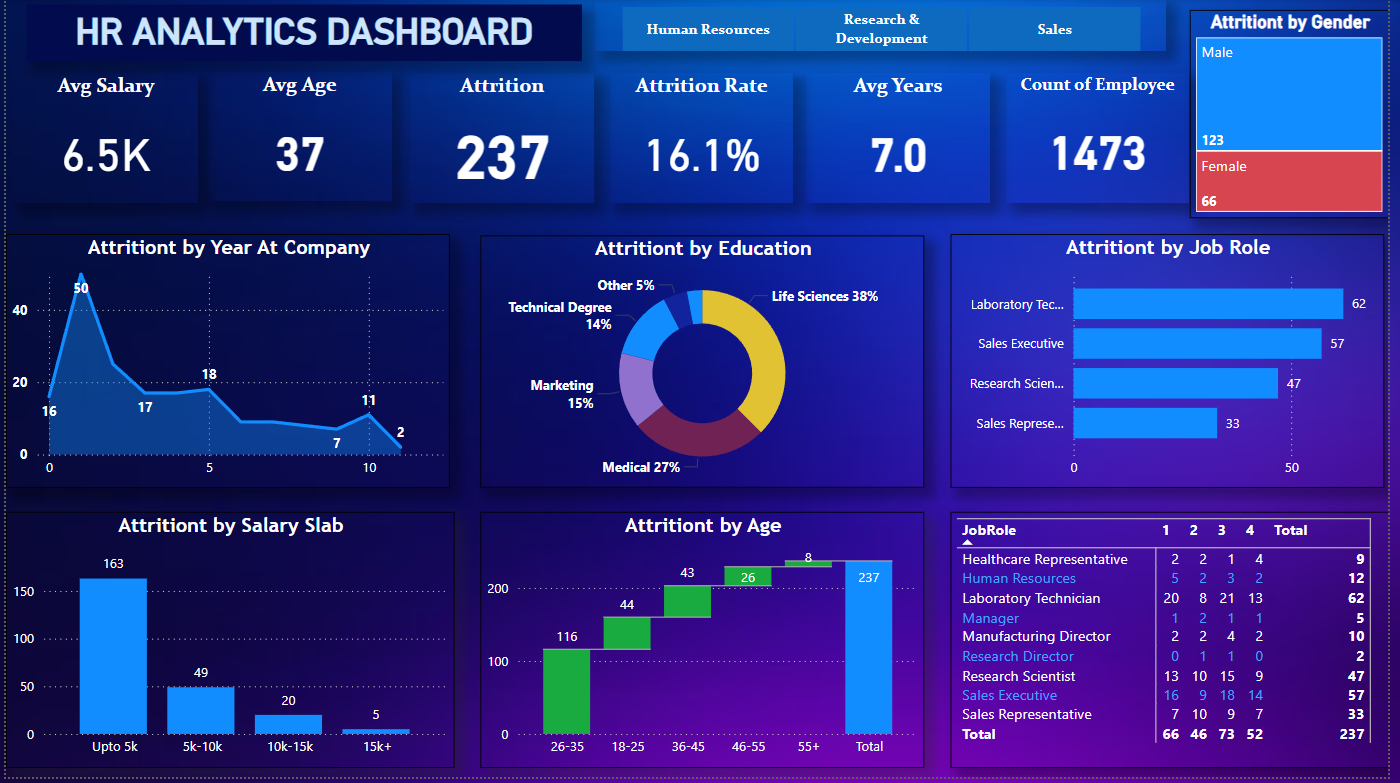

Layout of this report page (visuals, bound fields, positions):
{"tool":"powerbi","page":{"name":"Page 1","canvas":[1280,720],"ordinal":0},"visuals":[{"type":"card","title":"Count of Employee","fields":{"Values":["CountNonNull(HR_Analytics.EmpID)"]},"box":[925.4,69,170.4,119.7],"z":0},{"type":"card","title":"Attrition Rate","fields":{"Values":["HR_Analytics.AttritionRate"]},"box":[559.2,69,170.4,119.7],"z":1000},{"type":"card","title":"Attrition","fields":{"Values":["Sum(HR_Analytics.AttritionCount)"]},"box":[374.6,69,170.4,119.7],"z":2000},{"type":"card","title":"Avg Years","fields":{"Values":["Avg(HR_Analytics.YearsAtCompany)"]},"box":[740.8,69,170.4,119.7],"z":3000},{"type":"card","title":"Avg Age","fields":{"Values":["Avg(HR_Analytics.Age)"]},"box":[187.3,67.6,170,120],"z":4000},{"type":"card","title":"Avg Salary","fields":{"Values":["Avg(HR_Analytics.MonthlyIncome)"]},"box":[7,68.2,170,120],"z":5000},{"type":"donutChart","title":"Attritiont by Education","fields":{"Category":["HR_Analytics.EducationField"],"Y":["Sum(HR_Analytics.AttritionCount)"]},"box":[439.4,219,411.3,233.8],"z":6000},{"type":"waterfallChart","title":"Attritiont by Age","fields":{"Category":["HR_Analytics.AgeGroup"],"Y":["Sum(HR_Analytics.AttritionCount)"]},"box":[439.4,475.3,411.3,223.9],"z":7000},{"type":"pivotTable","title":"Attritiont by Education","fields":{"Rows":["HR_Analytics.JobRole"],"Columns":["HR_Analytics.JobSatisfaction"],"Values":["Sum(HR_Analytics.AttritionCount)"]},"box":[874.6,475.3,405.6,223.9],"z":8000},{"type":"clusteredColumnChart","title":"Attritiont by Salary Slab","fields":{"Category":["HR_Analytics.SalarySlab"],"Y":["Sum(HR_Analytics.AttritionCount)"]},"box":[0,475.3,415.5,223.9],"z":9000},{"type":"clusteredBarChart","title":"Attritiont by Job Role","fields":{"Category":["HR_Analytics.JobRole"],"Y":["Sum(HR_Analytics.AttritionCount)"]},"box":[874.6,217.5,401.4,235.2],"z":10000},{"type":"areaChart","title":"Attritiont by Year At Company","fields":{"Category":["HR_Analytics.YearsAtCompany"],"Y":["Sum(HR_Analytics.AttritionCount)"]},"box":[0,217.5,411.3,235.2],"z":11000},{"type":"textbox","box":[19.7,5.6,514.1,52.1],"z":12000},{"type":"treemap","title":"Attritiont by Gender","fields":{"Values":["Sum(HR_Analytics.AttritionCount)"],"Group":["HR_Analytics.Gender"]},"box":[1095.8,9.9,184.5,193],"z":13000},{"type":"slicer","fields":{"Values":["HR_Analytics.Department"]},"box":[545.1,0,529.6,47.9],"z":14000}]}

Visuals, with their boxes in screenshot pixels (x1, y1, x2, y2), scaled from the page's 1280x720 canvas onto the 1400x783 screenshot:
"Count of Employee" card: 1012:75:1199:205
"Attrition Rate" card: 612:75:798:205
"Attrition" card: 410:75:596:205
"Avg Years" card: 810:75:997:205
"Avg Age" card: 205:74:391:204
"Avg Salary" card: 8:74:194:205
"Attritiont by Education" donutChart: 481:238:930:492
"Attritiont by Age" waterfallChart: 481:517:930:760
"Attritiont by Education" pivotTable: 957:517:1399:760
"Attritiont by Salary Slab" clusteredColumnChart: 0:517:454:760
"Attritiont by Job Role" clusteredBarChart: 957:237:1396:492
"Attritiont by Year At Company" areaChart: 0:237:450:492
textbox: 22:6:584:63
"Attritiont by Gender" treemap: 1199:11:1399:221
slicer - HR_Analytics.Department: 596:0:1175:52
